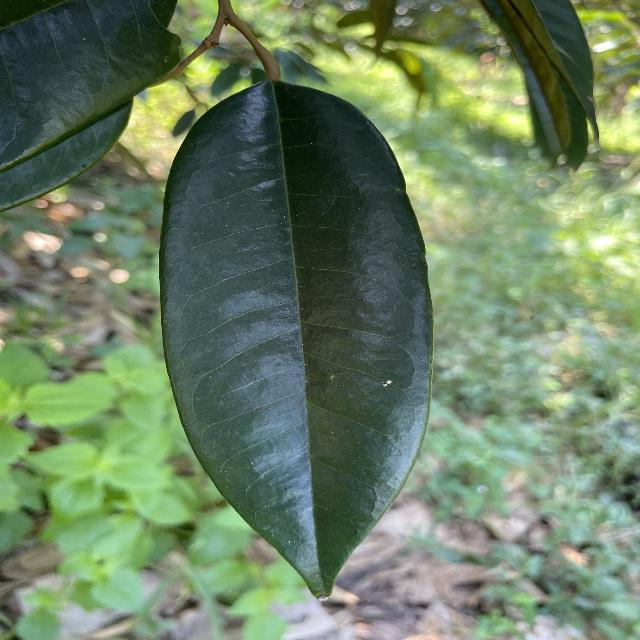No Disease: (151, 65, 443, 609)
